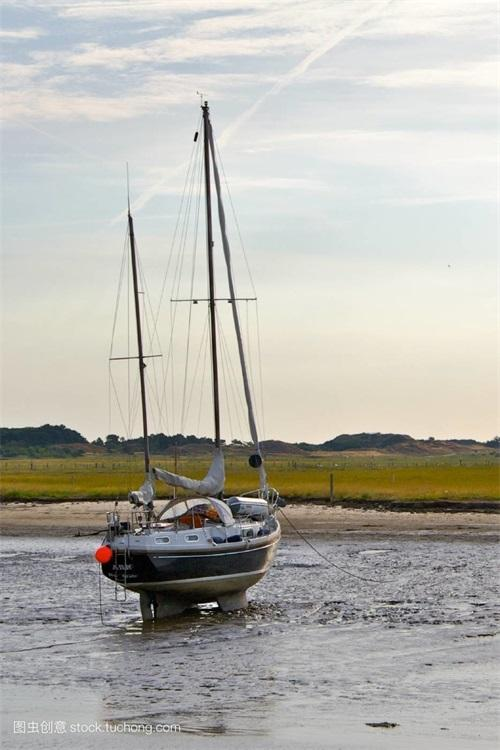Ship: (95, 103, 281, 606)
